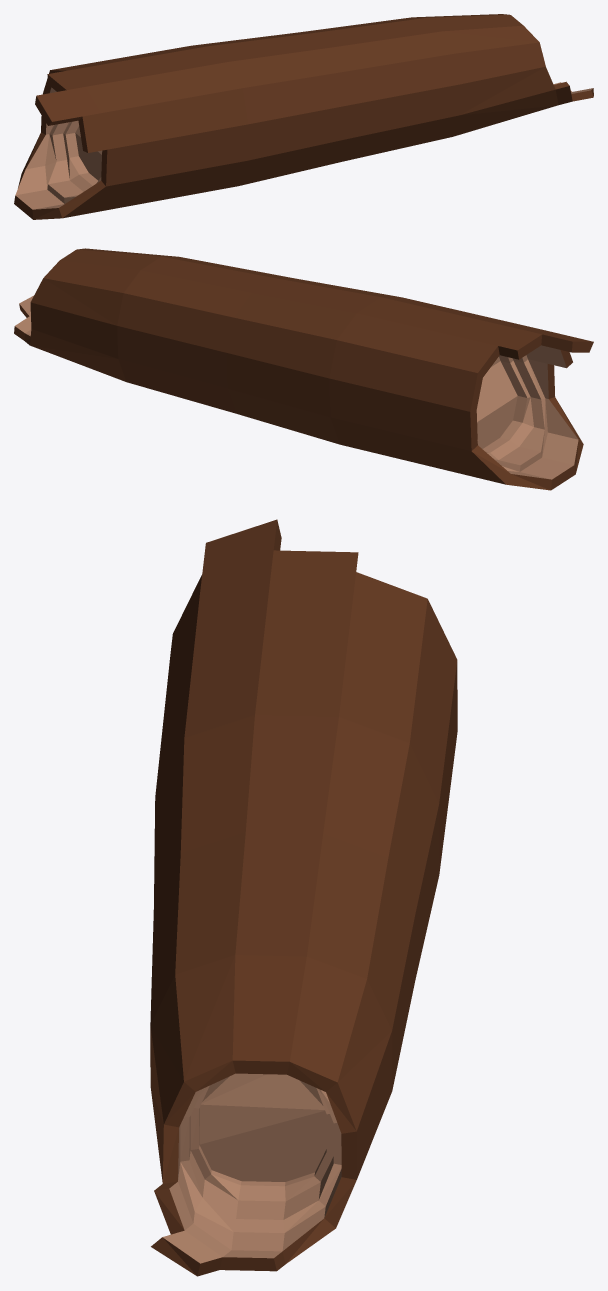
File: FallenTree2.fbx
3 renders of one model, top to bottom at view 1: azimuth 30°, elevation 25°; view 2: azimuth 150°, elevation 25°; view 3: azimuth 270°, elevation 25°, orthographic. The views are drawn at different scales.
Parts seen in each view (by area): view 1: FallenTree2; view 2: FallenTree2; view 3: FallenTree2.
Part boxes in pixels (box(x1,y1,x2,y2)): FallenTree2: box(14, 14, 593, 219); FallenTree2: box(14, 248, 593, 490); FallenTree2: box(150, 519, 457, 1276).
Bounding box in the file's own units: 1861 × 427 × 457.
